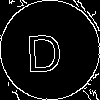D: (25, 25, 63, 72)
